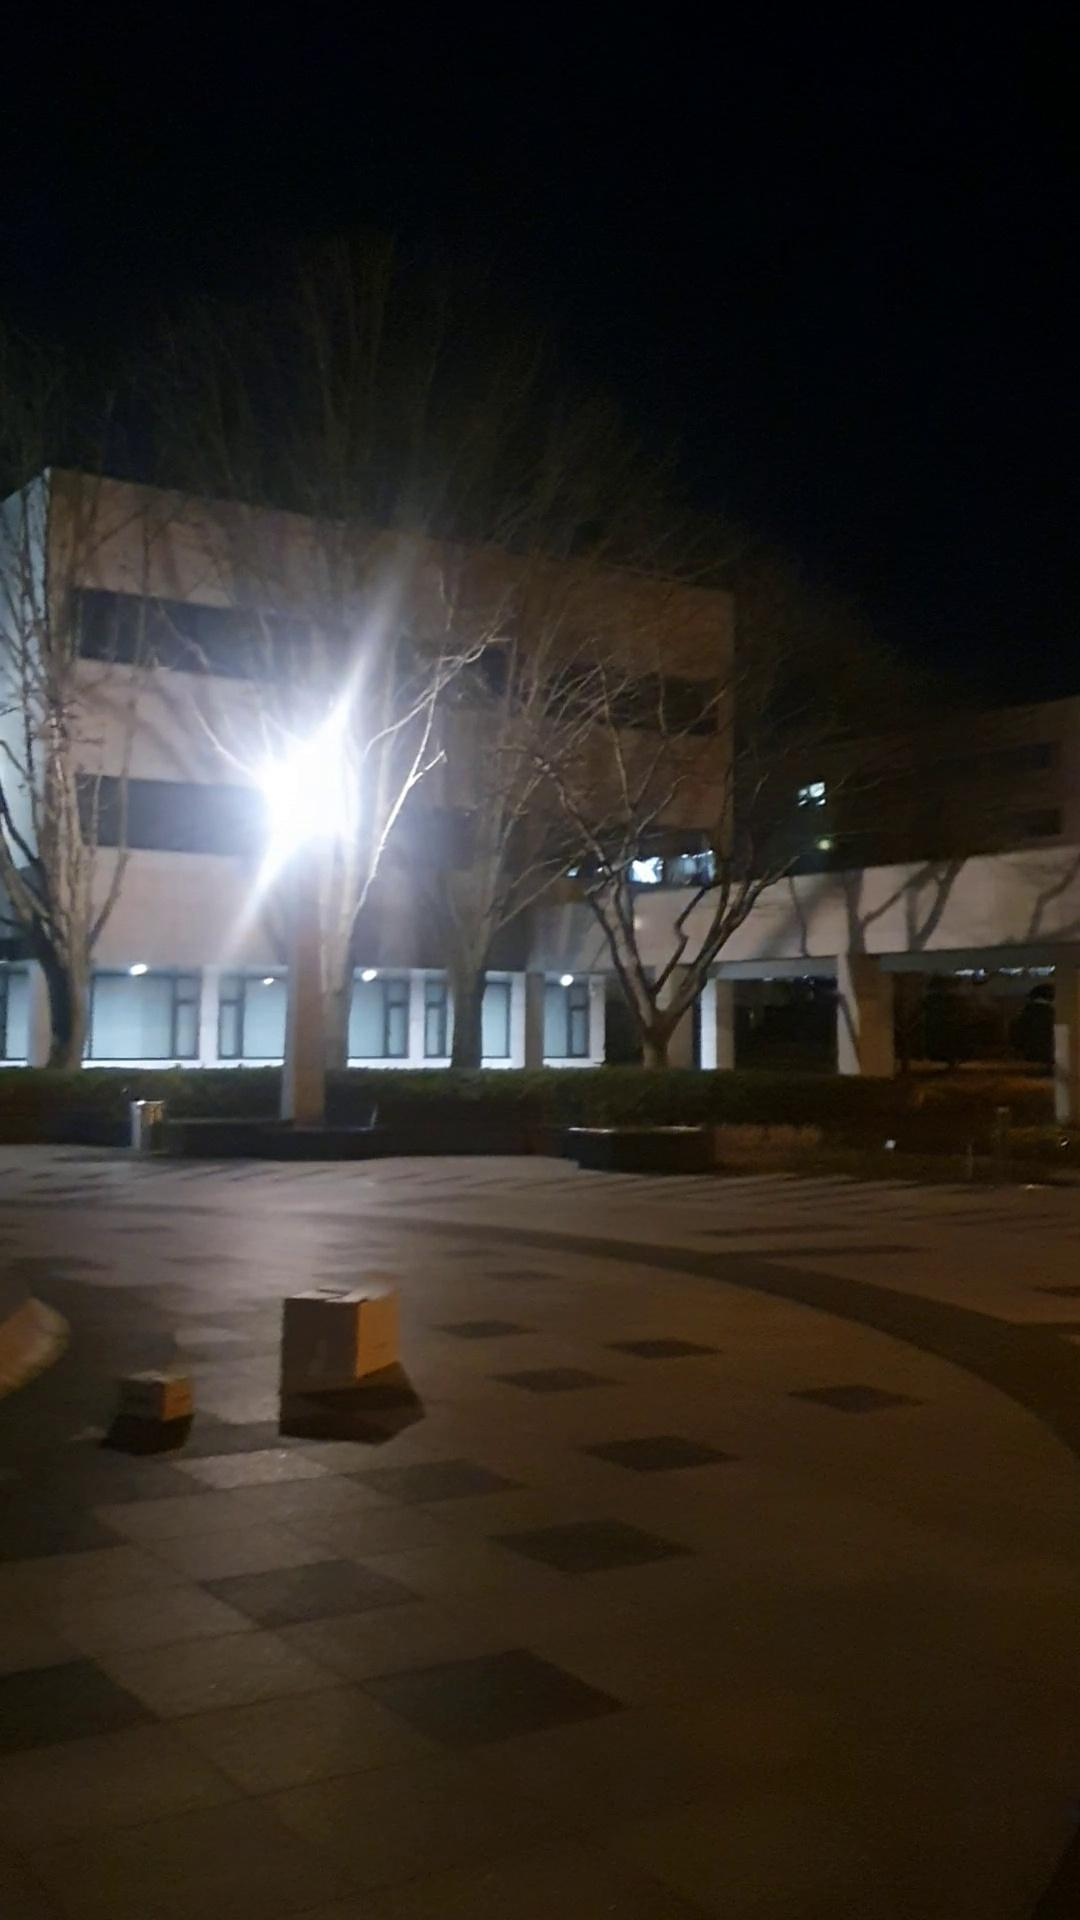Box: (276, 1263, 407, 1403), (111, 1358, 210, 1440)
